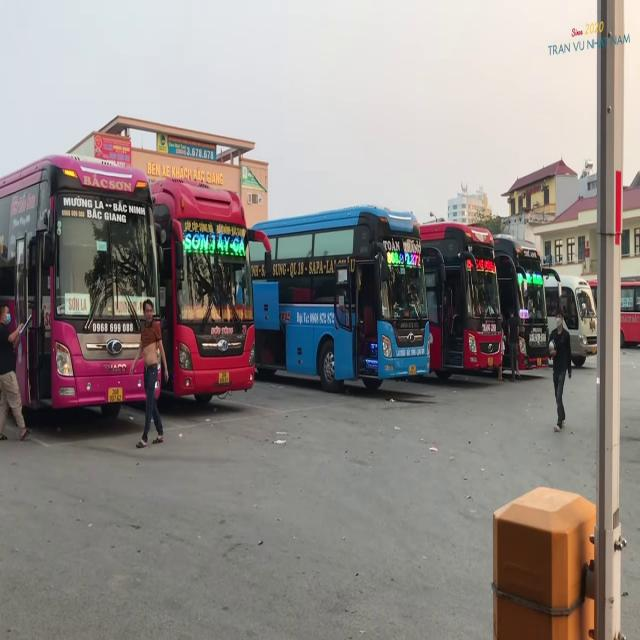bien_vang: (109, 387, 122, 403)
